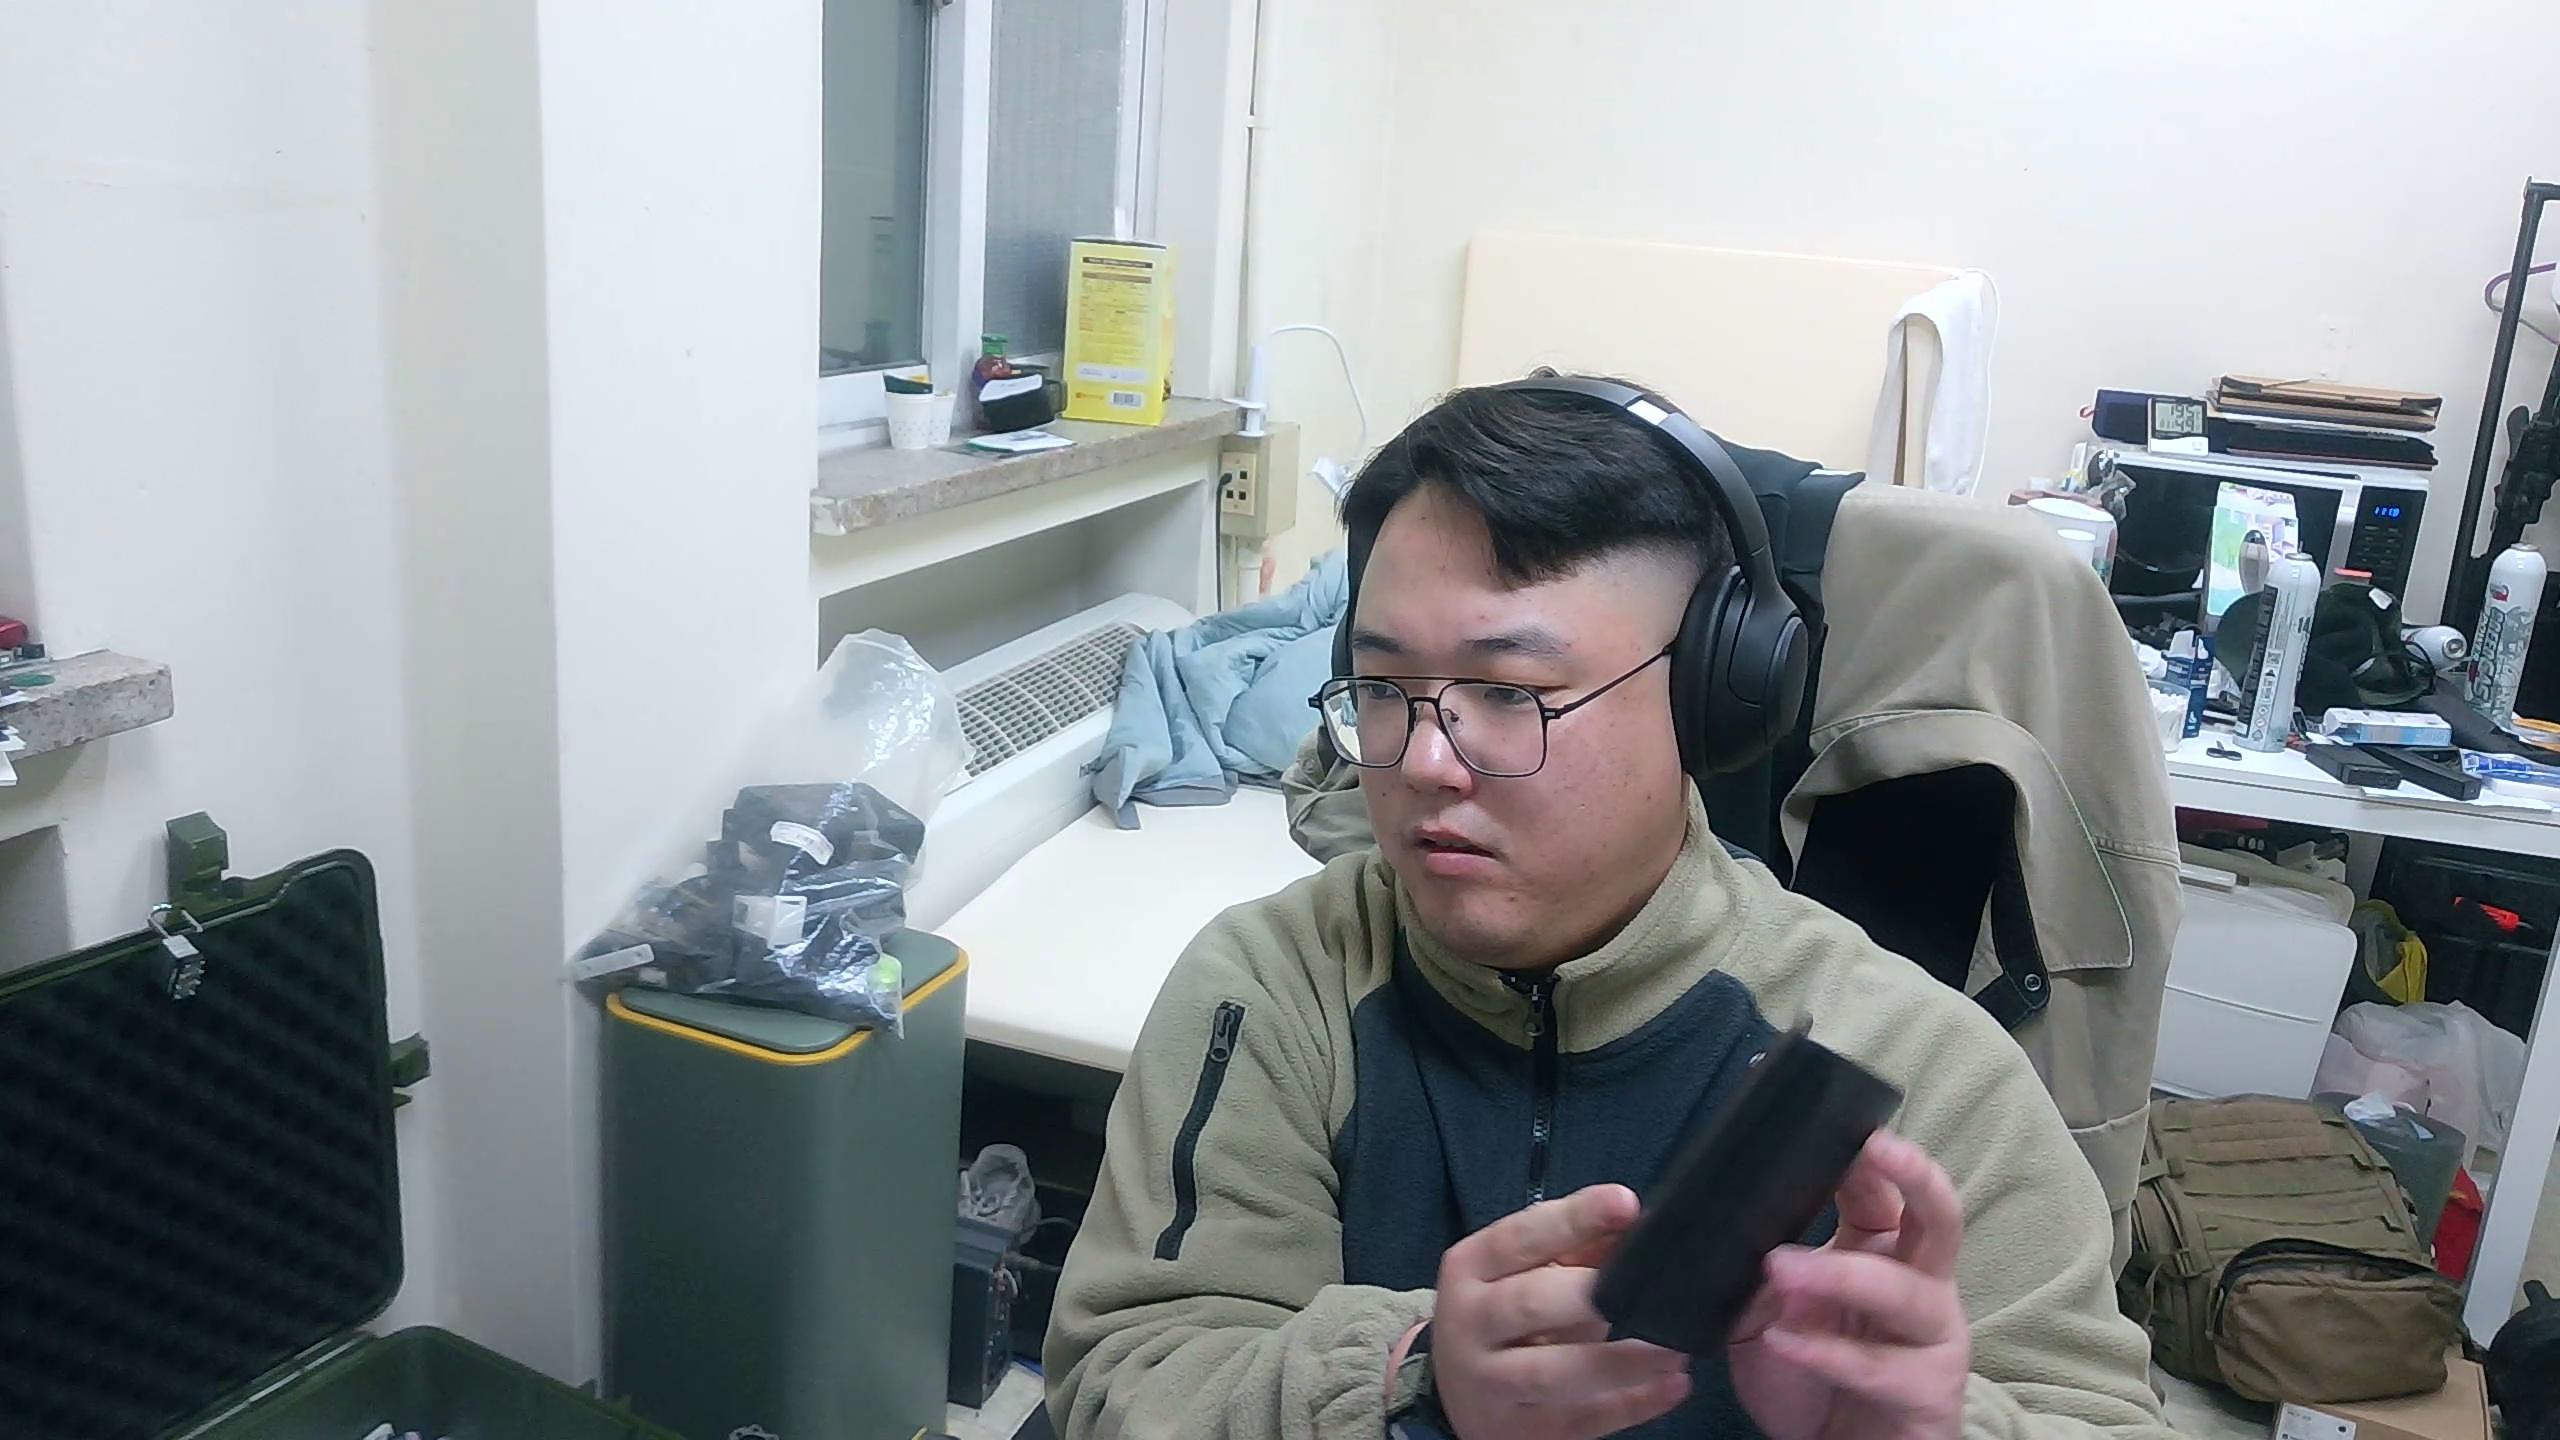Wallet: (1591, 1016, 1911, 1361)
